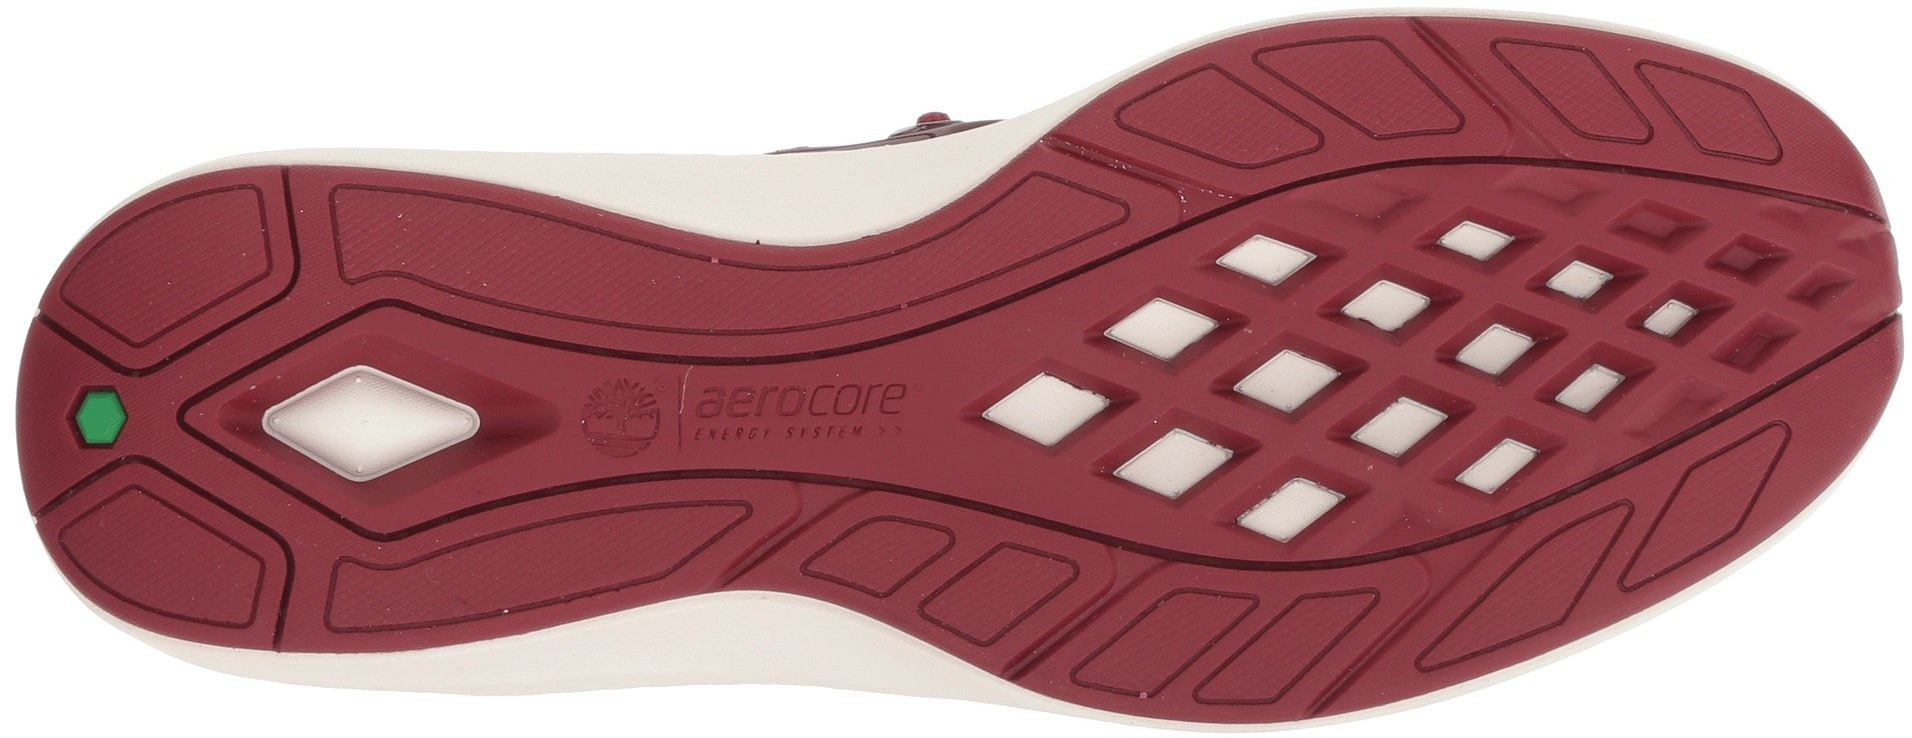quad: (1285, 239, 1516, 493), (1023, 283, 1255, 518), (1536, 192, 1753, 414), (1147, 560, 1333, 715), (854, 500, 1011, 657), (1288, 24, 1429, 152)
text: (835, 359, 933, 467), (688, 368, 789, 468)
